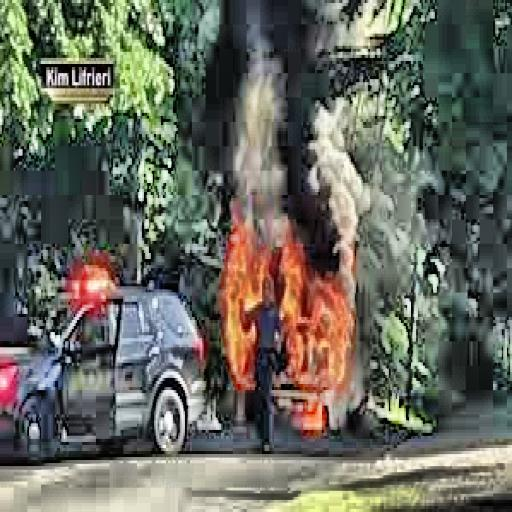fire: (217, 226, 358, 414)
